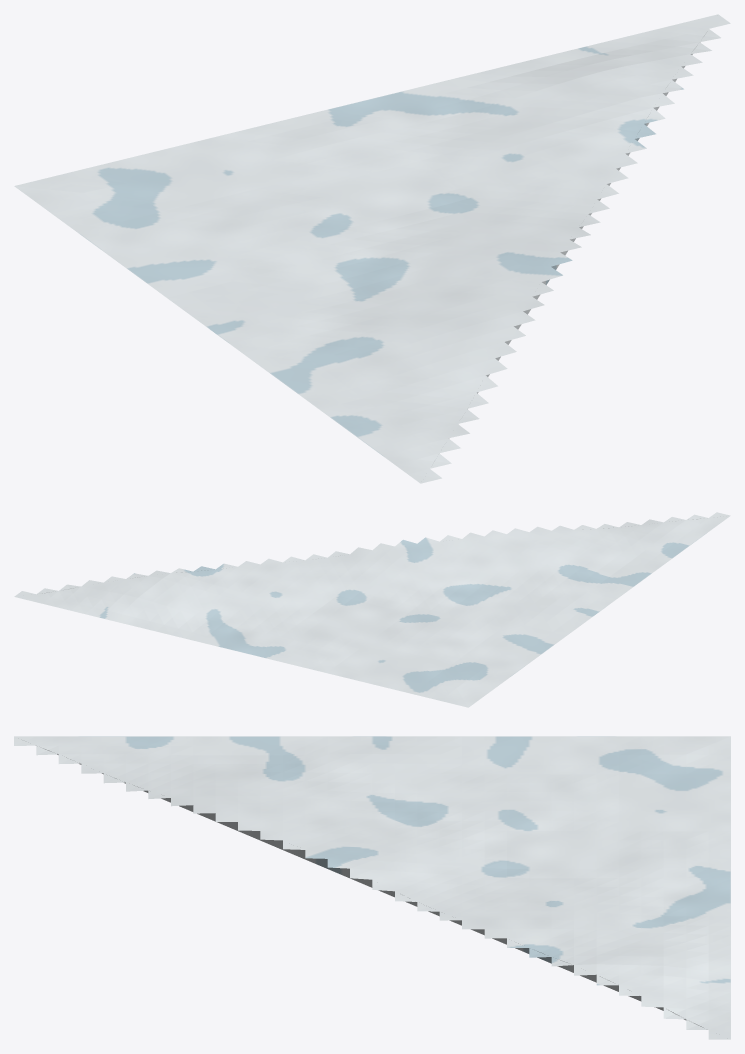
Rendered from Snow_Flat_12_SW.obj.
3 views of the same model, one above another, from view 1: azimuth 30°, elevation 25°; view 2: azimuth 150°, elevation 25°; view 3: azimuth 270°, elevation 25° (orthographic). The views are drawn at different scales.
Bounding box in the file's own units: 10 × 0.1686 × 10.
1 material, 1 textured.
